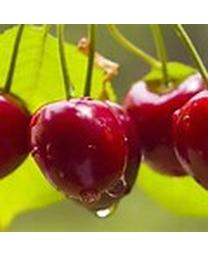cherry: (29, 98, 128, 198), (122, 75, 205, 177), (170, 91, 206, 189), (4, 85, 32, 181)
